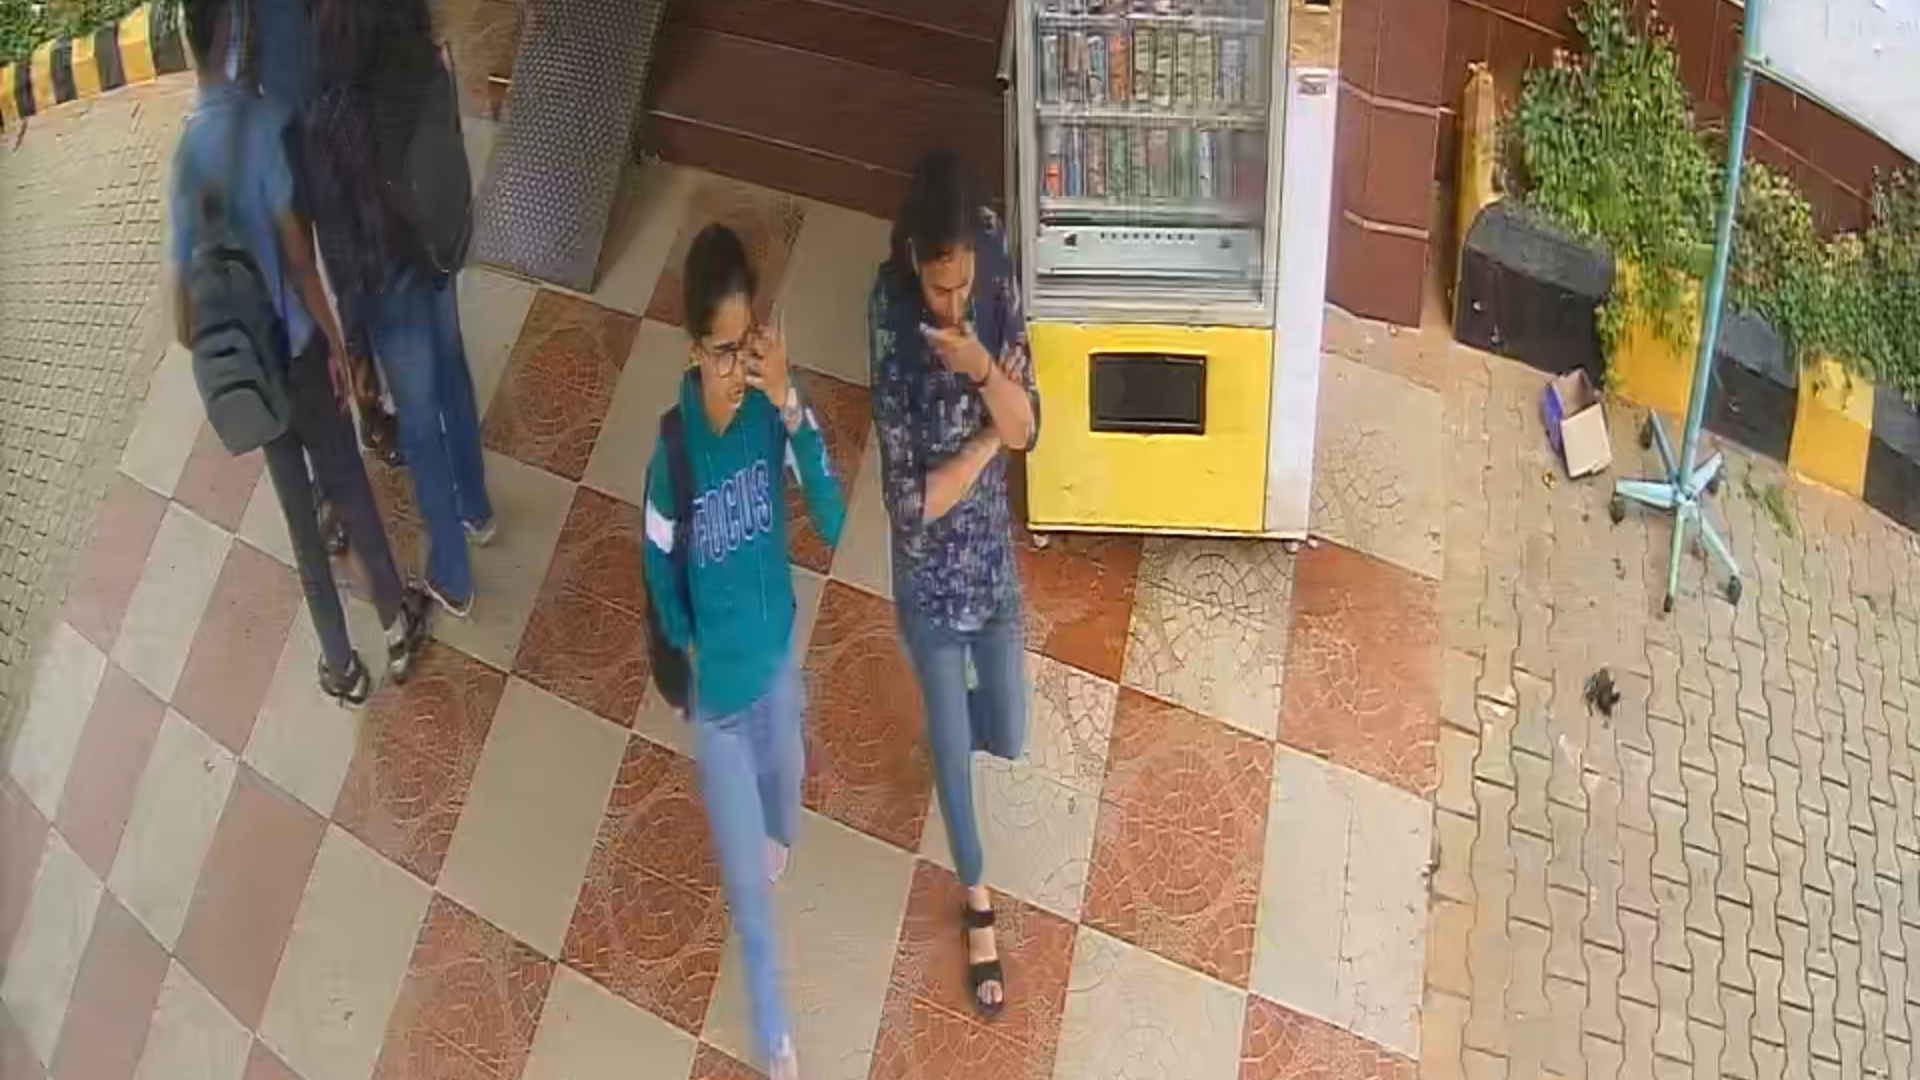intruder: (637, 220, 847, 1080), (864, 138, 1058, 1031)
